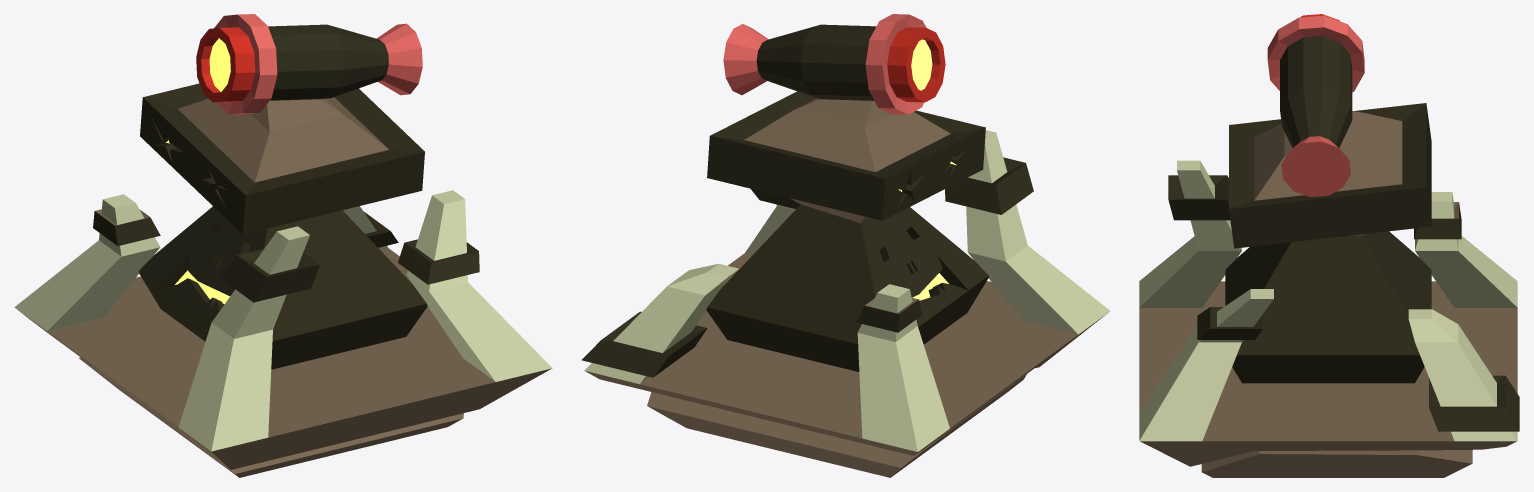
File: Launcher.fbx
3 views of the same model, side by side, from view 1: azimuth 30°, elevation 25°; view 2: azimuth 150°, elevation 25°; view 3: azimuth 270°, elevation 25° (orthographic). The views are drawn at different scales.
Parts seen in each view (by area): view 1: LauncherStructure, Launcher, LauncherBody; view 2: LauncherStructure, Launcher, LauncherBody; view 3: LauncherStructure, Launcher, LauncherBody.
Boxes of the visible parts, x1,y1,x2,y2 form: LauncherStructure: (14, 190, 552, 477); Launcher: (140, 14, 424, 234); LauncherBody: (138, 206, 427, 369); LauncherStructure: (581, 130, 1110, 477); Launcher: (707, 14, 985, 223); LauncherBody: (706, 204, 988, 371); LauncherStructure: (1139, 160, 1519, 477); Launcher: (1229, 14, 1431, 248); LauncherBody: (1225, 231, 1431, 383).
Size of the model in its own units: 208 by 236 by 208.
